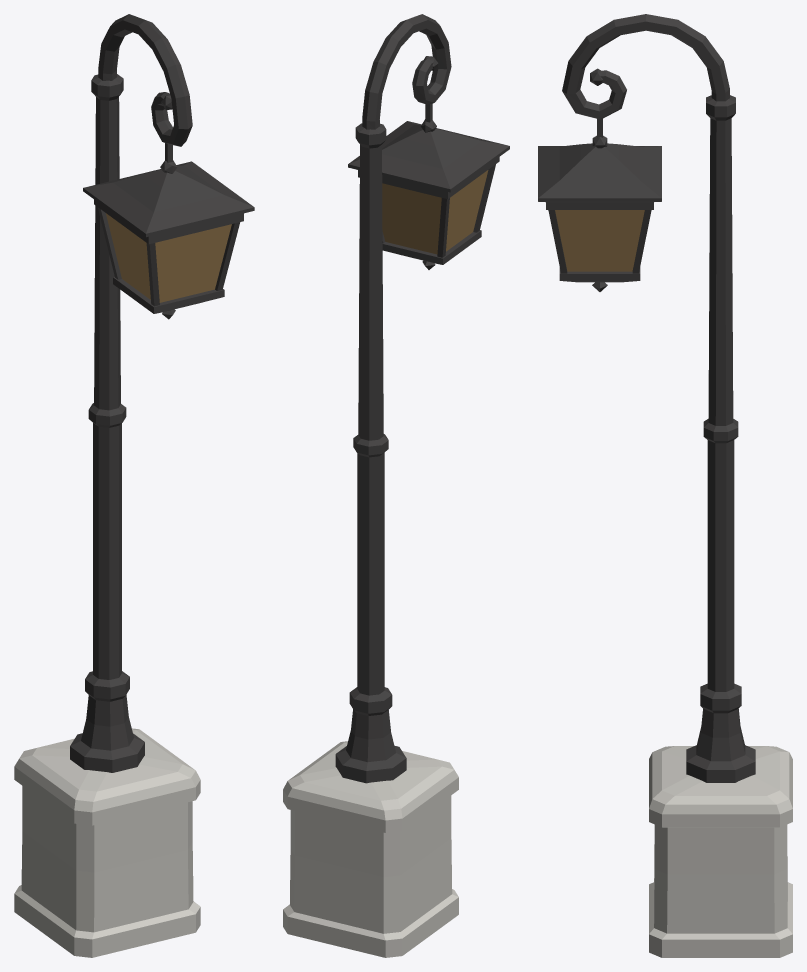
Rendered from harbour-lamp-post-3d8032.glb.
3 views of the same model, side by side, from view 1: azimuth 30°, elevation 25°; view 2: azimuth 150°, elevation 25°; view 3: azimuth 270°, elevation 25° (orthographic). The views are drawn at different scales.
Parts seen in each view (by area): view 1: post, lantern-body; view 2: post, lantern-body; view 3: post, lantern-body.
Boxes of the visible parts, x1,y1,x2,y2 form: post: [14, 14, 200, 957]; lantern-body: [83, 143, 254, 319]; post: [283, 14, 458, 957]; lantern-body: [348, 103, 509, 269]; post: [562, 14, 792, 957]; lantern-body: [538, 118, 661, 291].
Bounding box in the file's own units: 0.5 × 3.5 × 0.885.
